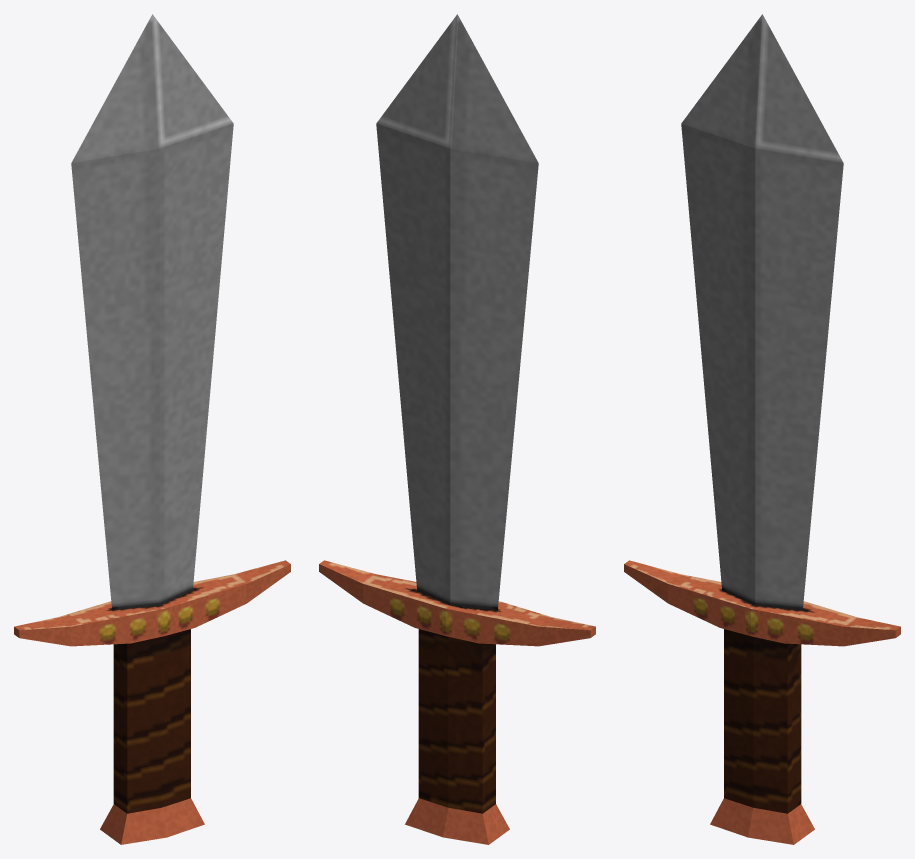
Rendered from sword.fbx.
3 renders of one model, left to right at view 1: azimuth 30°, elevation 25°; view 2: azimuth 150°, elevation 25°; view 3: azimuth 330°, elevation 25°, orthographic.
Visible parts, largest first — view 1: Sword; view 2: Sword; view 3: Sword.
Part boxes in pixels (x1,y1,x2,y2): Sword: (14,14,290,844); Sword: (319,14,595,844); Sword: (624,14,900,844).
Bounding box in the file's own units: 124 × 356 × 22.9.
